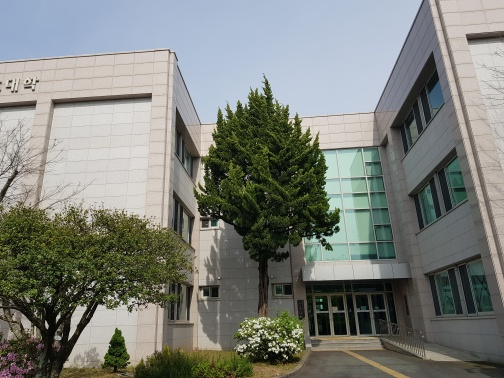College of Nursing: (13, 44, 492, 346)
